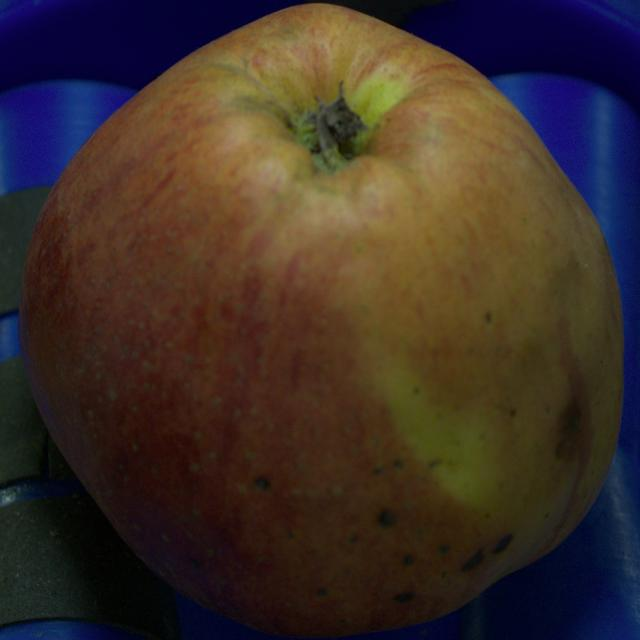apple: (20, 4, 622, 636)
bruise: (553, 313, 596, 533)
pest: (461, 549, 483, 571), (492, 534, 512, 554), (378, 510, 396, 527), (394, 592, 414, 603), (255, 478, 269, 489), (317, 589, 327, 596)
